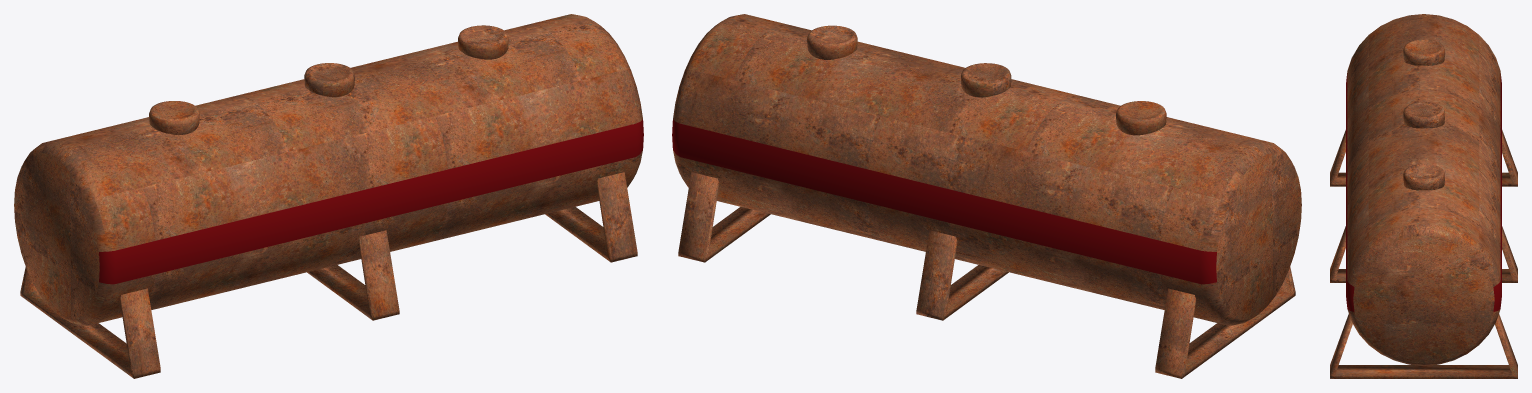
File: OilTankerSingle.fbx
3 renders of one model, left to right at view 1: azimuth 30°, elevation 25°; view 2: azimuth 150°, elevation 25°; view 3: azimuth 270°, elevation 25°, orthographic. The views are drawn at different scales.
Parts seen in each view (by area): view 1: Cylinder; view 2: Cylinder; view 3: Cylinder.
Part boxes in pixels (x1=…): Cylinder: x1=14, y1=14, x2=643, y2=378; Cylinder: x1=672, y1=14, x2=1301, y2=378; Cylinder: x1=1330, y1=14, x2=1517, y2=378.
Bounding box in the file's own units: 397 × 142 × 144.
